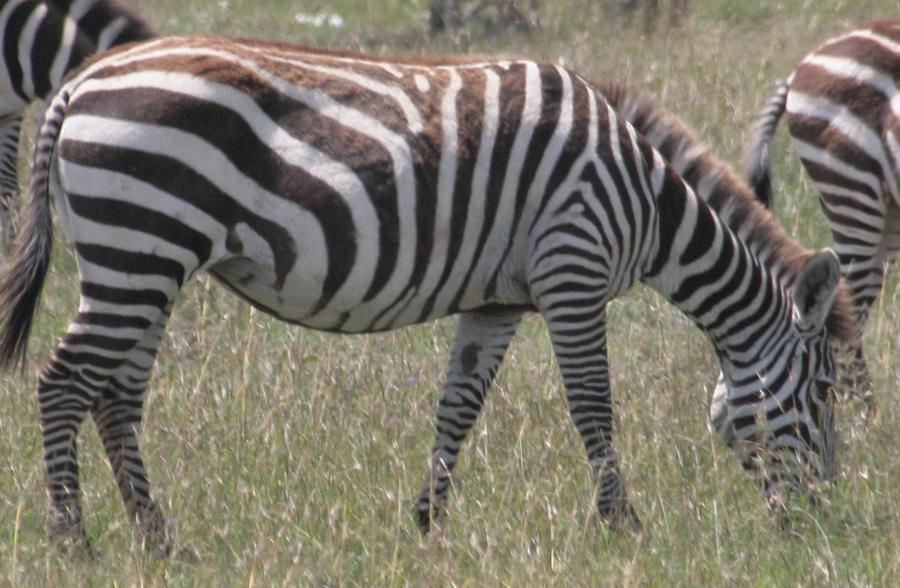zebra_plains: (51, 14, 645, 320)
